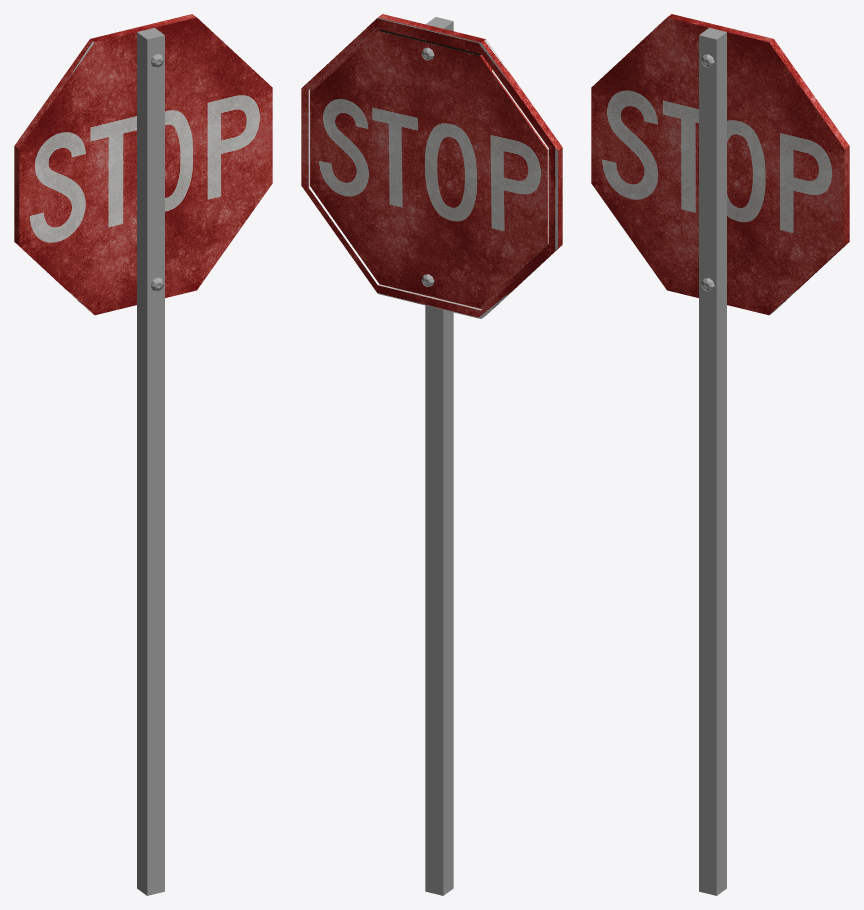
File: StopSign01.fbx
3 views of the same model, side by side, from view 1: azimuth 30°, elevation 25°; view 2: azimuth 150°, elevation 25°; view 3: azimuth 330°, elevation 25° (orthographic).
Visible parts, largest first — view 1: Sign, Pole; view 2: Sign, Pole; view 3: Sign, Pole.
Part boxes in pixels (x1,y1,x2,y2): Sign: [14, 14, 272, 315]; Pole: [137, 28, 164, 895]; Sign: [301, 14, 562, 318]; Pole: [425, 17, 453, 895]; Sign: [591, 14, 849, 315]; Pole: [699, 28, 726, 895].
Bounding box in the file's own units: 0.7257 × 2.34 × 0.0977.
Materials: 2 (1 with a texture image).
